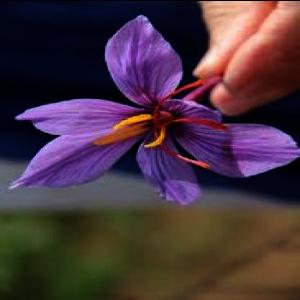Saffron: (9, 11, 300, 204)
